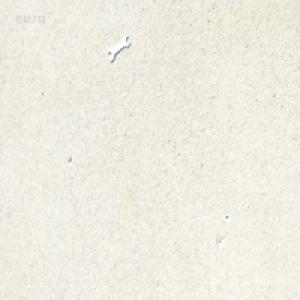Wrench: (108, 31, 130, 59)
